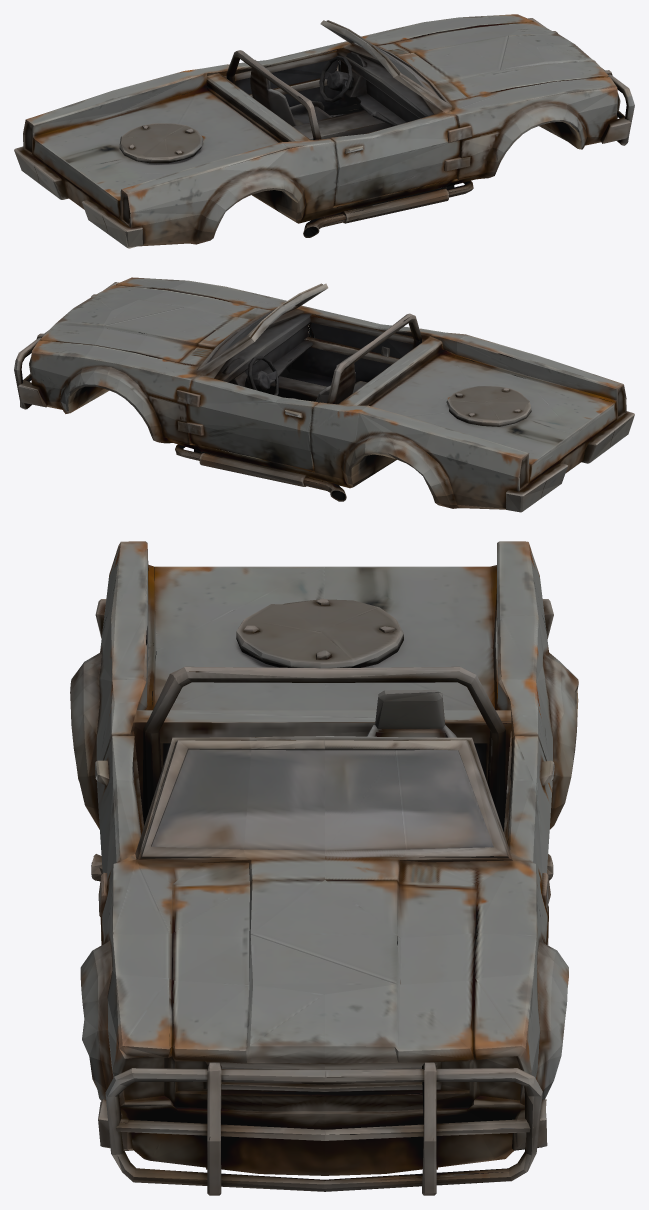
The model's file is car_m_v2_body.glb.
3 views of the same model, one above another, from view 1: azimuth 30°, elevation 25°; view 2: azimuth 150°, elevation 25°; view 3: azimuth 270°, elevation 25° (orthographic). The views are drawn at different scales.
Parts seen in each view (by area): view 1: geometry_0; view 2: geometry_0; view 3: geometry_0.
Boxes of the visible parts, x1,y1,x2,y2 form: geometry_0: (14,14,634,248); geometry_0: (14,277,634,512); geometry_0: (70,541,578,1195).
Size of the model in its own units: 4.8 by 1.13 by 2.02.
1 material, 1 textured.
